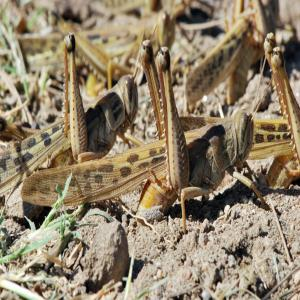locust: (22, 77, 273, 235)
